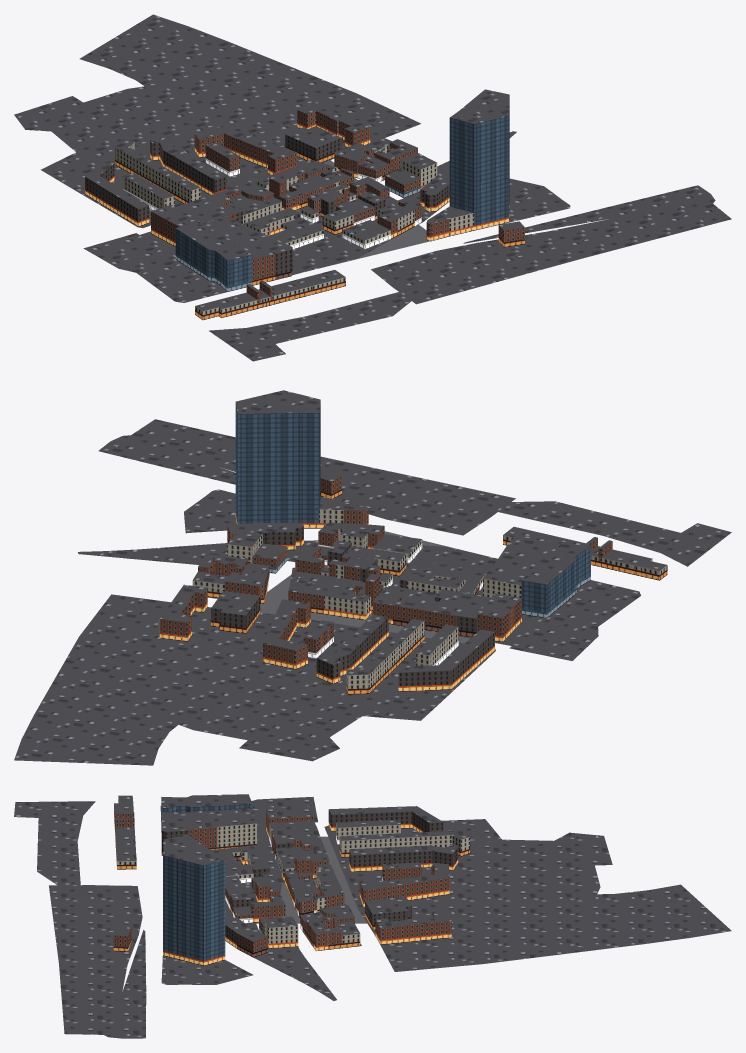
The model's file is shoreditch_textured_.glb.
3 renders of one model, top to bottom at view 1: azimuth 30°, elevation 25°; view 2: azimuth 150°, elevation 25°; view 3: azimuth 270°, elevation 25°, orthographic. The views are drawn at different scales.
Visible parts, largest first — view 1: Buildings, Ground; view 2: Buildings, Ground; view 3: Buildings, Ground.
Part boxes in pixels (bbox=[...]): Buildings: bbox=[14, 14, 731, 361]; Ground: bbox=[295, 160, 429, 268]; Buildings: bbox=[14, 390, 731, 765]; Ground: bbox=[260, 531, 485, 643]; Buildings: bbox=[14, 794, 731, 1038]; Ground: bbox=[256, 836, 366, 923].
Size of what is drawn, in the model's own units: 397 by 76.83 by 498.
Materials: 11 (11 with a texture image).
